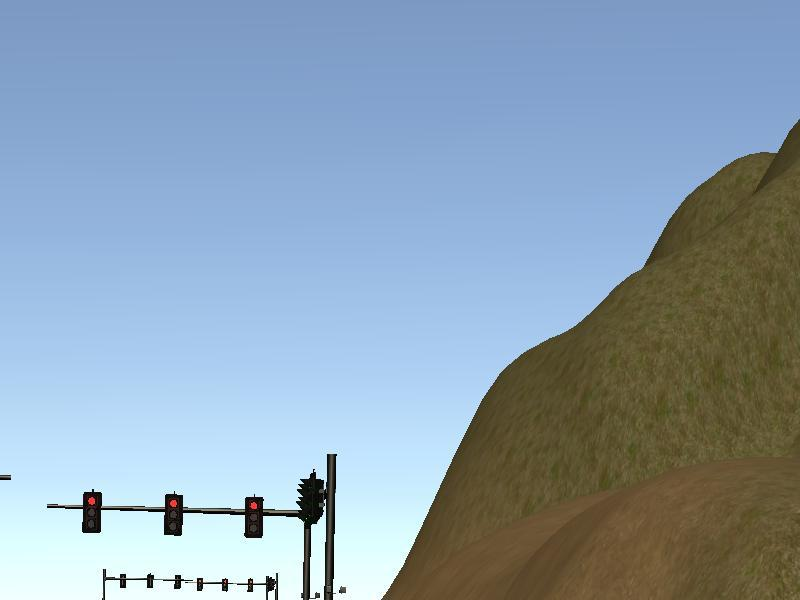Red: (244, 497, 263, 538), (163, 495, 182, 536), (82, 492, 101, 533)
